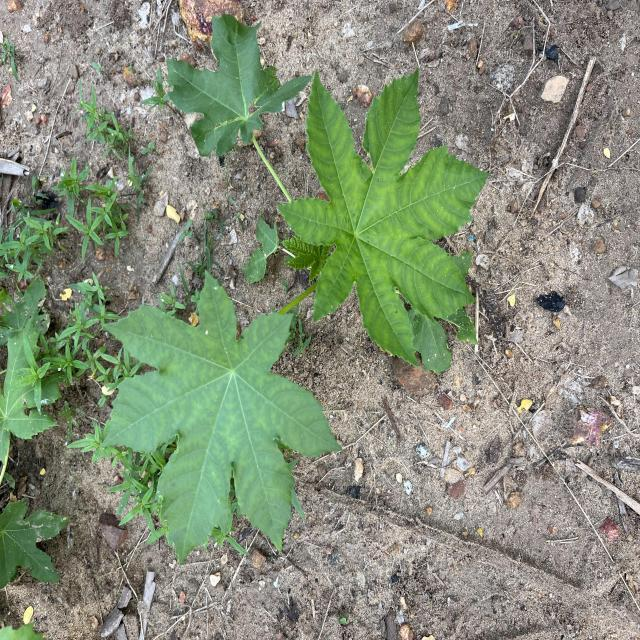Ricinus communis linn: (99, 264, 348, 574), (275, 61, 492, 372)
